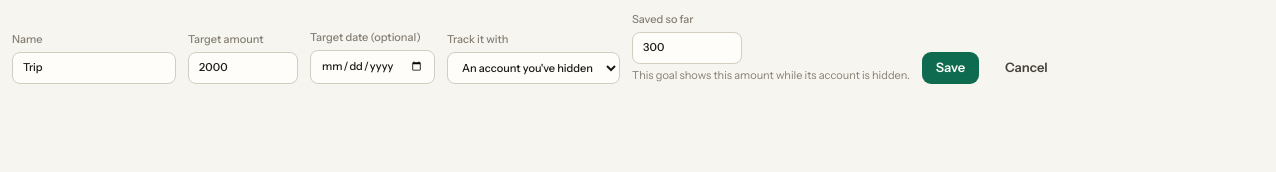
Test case: GoalForm › a goal whose account is hidden or gone › explains an amount that cannot be saved
Replace the text in the field labelled "Saved so far" with "-5". click: (687, 48)
box: [632, 32, 742, 64]
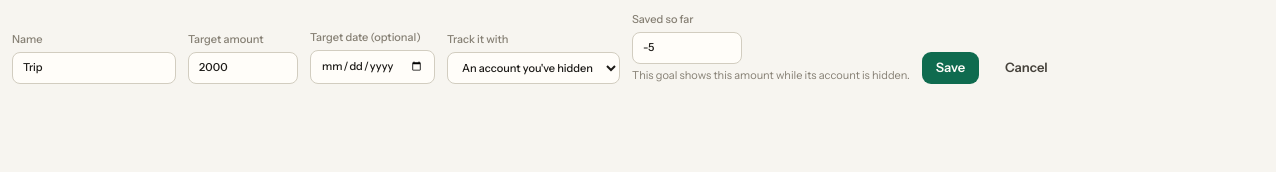
Click the button "Save". click: (950, 68)
box: [922, 52, 979, 84]
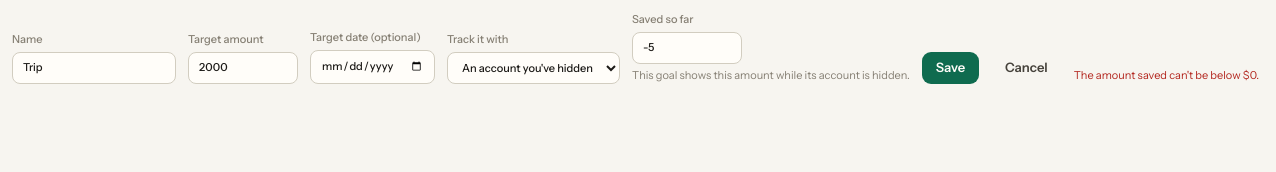
Result: the message reads "The amount saved can't be below $0." at [1074, 68, 1259, 82]
